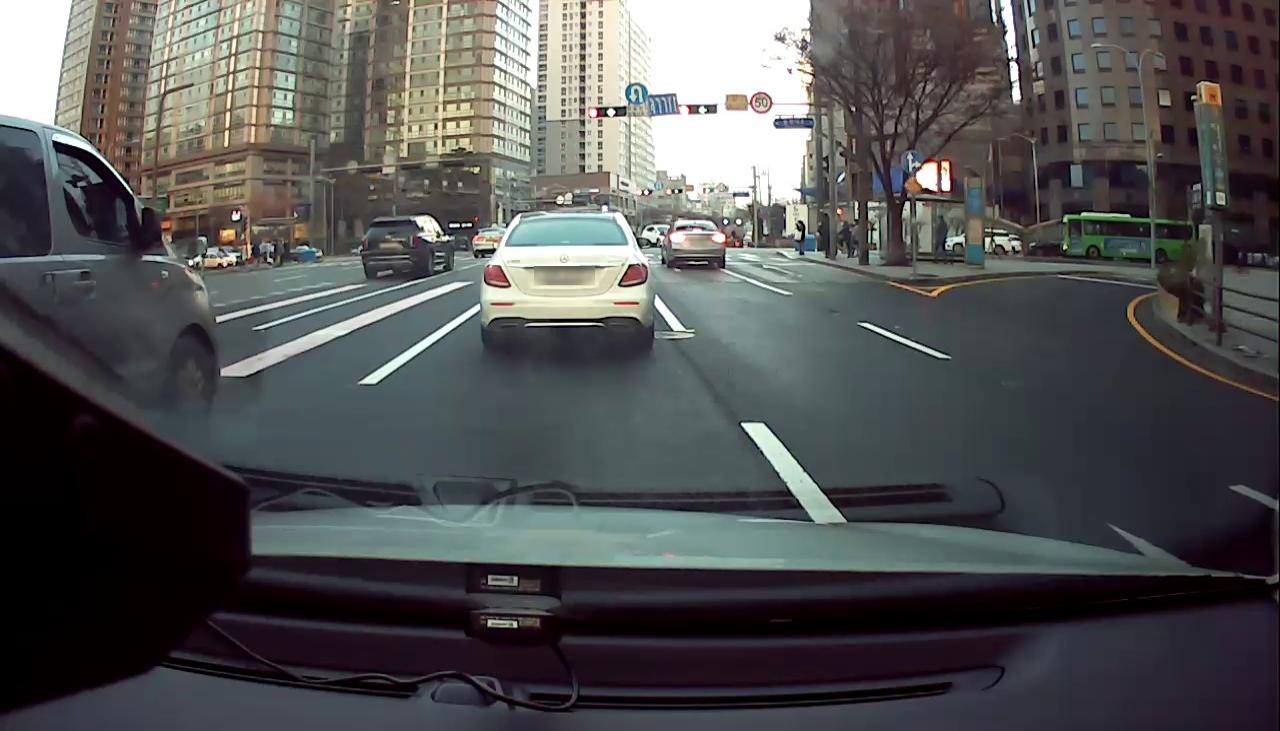Left turn: (696, 104, 709, 115), (606, 106, 616, 117)
Red Light: (677, 105, 690, 116), (588, 106, 598, 118)
